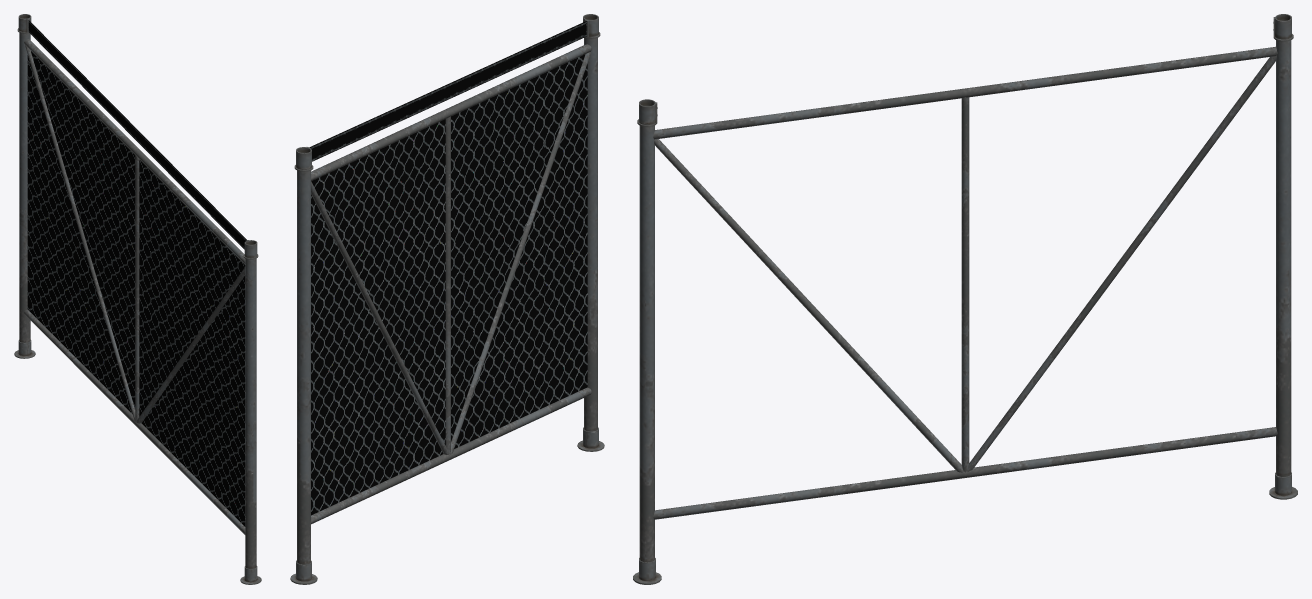
The model's file is SM_Fence_8.fbx.
The picture shows the model from 3 angles, left to right: view 1: azimuth 30°, elevation 25°; view 2: azimuth 150°, elevation 25°; view 3: azimuth 270°, elevation 25°; orthographic projection. The views are drawn at different scales.
Visible parts, largest first — view 1: SM_Fence_8_LOD0; view 2: SM_Fence_8_LOD0; view 3: SM_Fence_8_LOD0.
Part boxes in pixels (left/top/right/bottom): SM_Fence_8_LOD0: left=14, top=14, right=261, bottom=584; SM_Fence_8_LOD0: left=290, top=14, right=604, bottom=584; SM_Fence_8_LOD0: left=633, top=14, right=1297, bottom=584.
Size of the model in its own units: 17.14 by 380 by 354.
2 materials, 2 textured.
